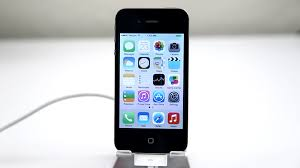iphone: (109, 6, 191, 155)
iphone4: (109, 6, 191, 155)
